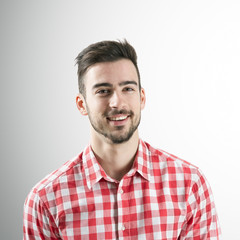young: (70, 29, 148, 148)
